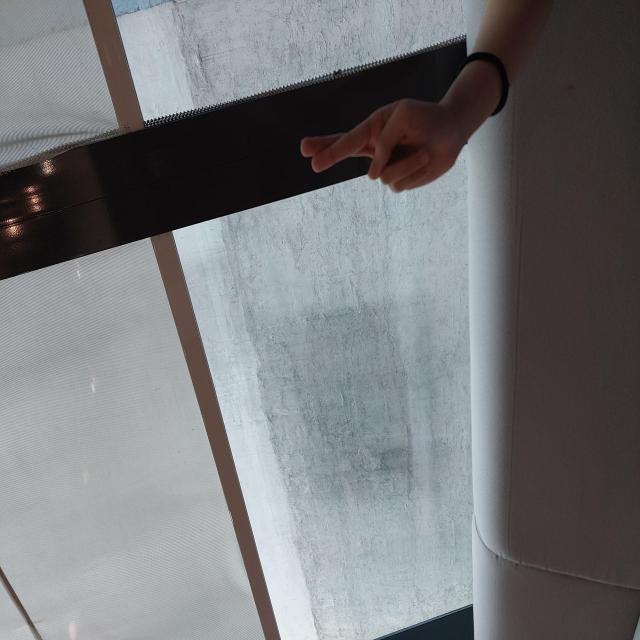R: (447, 300, 541, 458)
